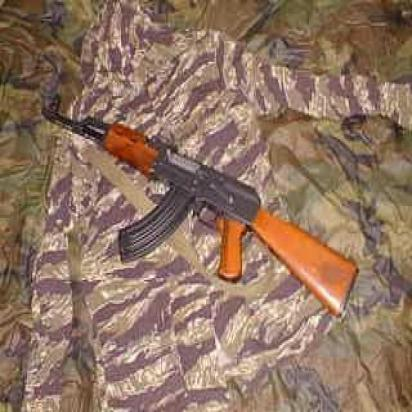Gun: (38, 89, 361, 327)
